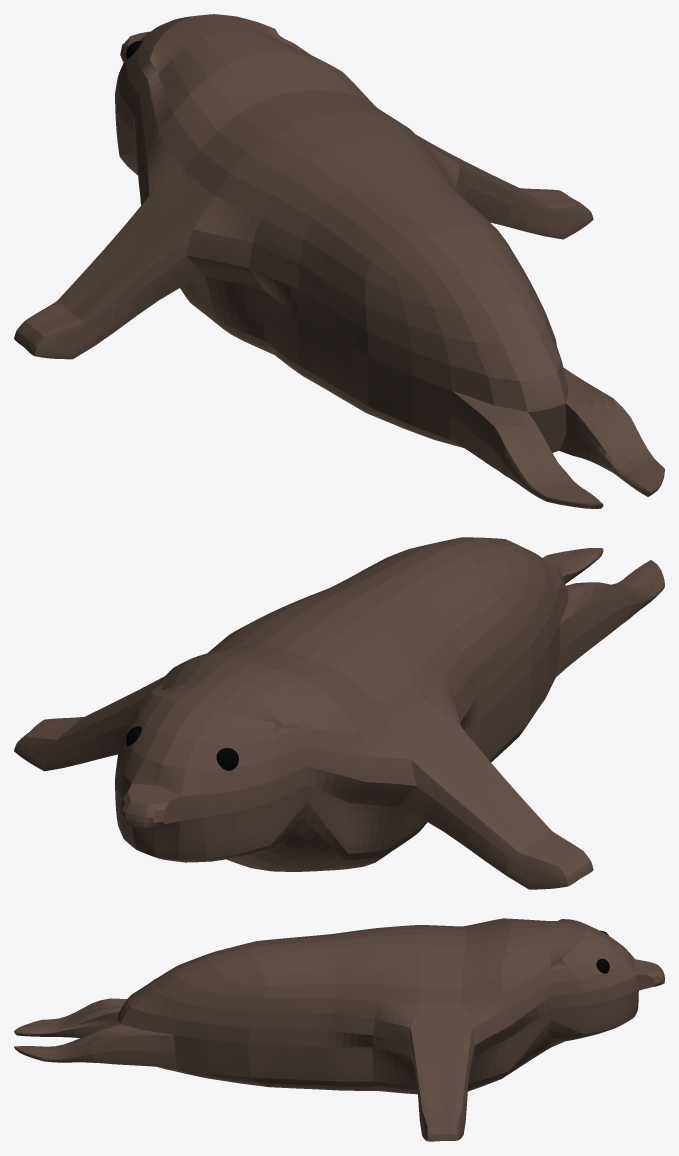
File: SeaElephant.fbx
3 renders of one model, top to bottom at view 1: azimuth 30°, elevation 25°; view 2: azimuth 150°, elevation 25°; view 3: azimuth 270°, elevation 25°, orthographic. The views are drawn at different scales.
Visible parts, largest first — view 1: Body; view 2: Body, Eyes; view 3: Body.
Boxes of the visible parts, left/top/right/bottom form: Body: left=14, top=14, right=664, bottom=508; Body: left=14, top=537, right=664, bottom=889; Eyes: left=126, top=726, right=238, bottom=770; Body: left=14, top=918, right=664, bottom=1141.
Bounding box in the file's own units: 393 × 154 × 599.
